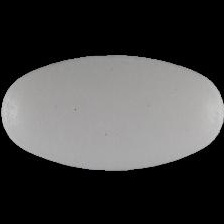62175-617: (0, 0, 224, 224)
